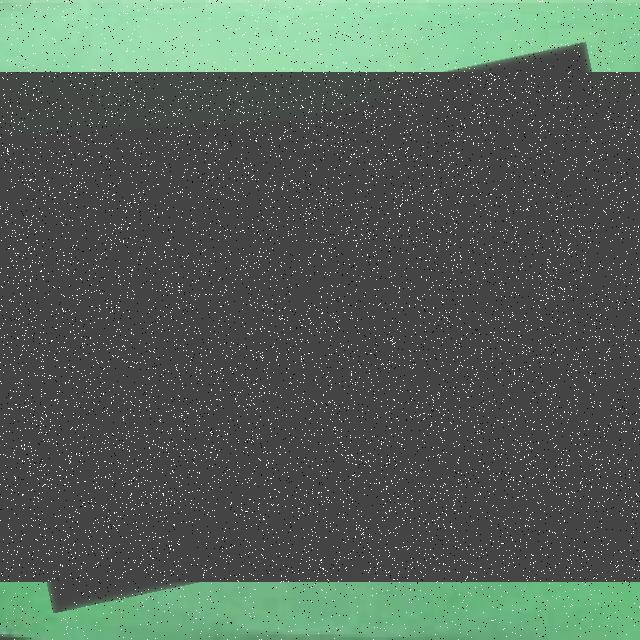dua ribu rupiah: (0, 72, 640, 582)
